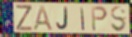A: (33, 5, 55, 32)
I: (80, 6, 85, 32)
J: (56, 6, 70, 31)
P: (91, 6, 109, 33)
S: (110, 5, 127, 33)
Z: (15, 4, 34, 32)
